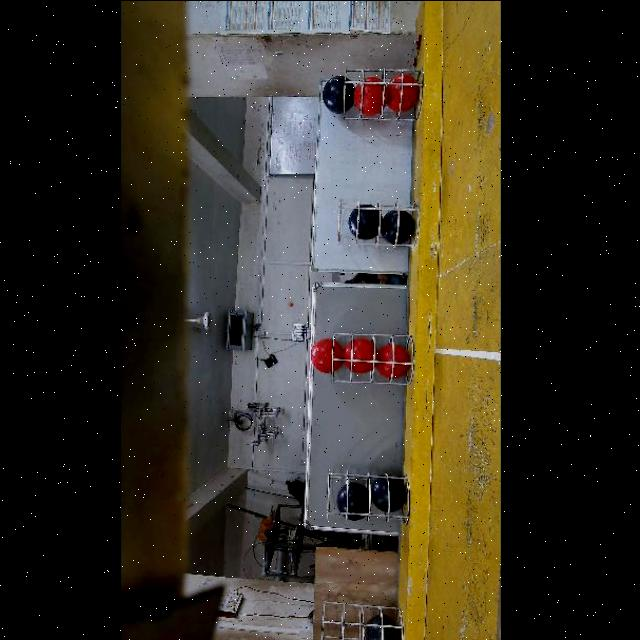P: (369, 478, 406, 514), (334, 482, 367, 520), (321, 74, 353, 112), (379, 209, 413, 243), (346, 204, 378, 239), (363, 615, 400, 640)
R: (351, 76, 387, 116), (341, 337, 377, 374), (386, 73, 419, 111), (375, 343, 408, 378), (309, 338, 341, 373)
S: (322, 468, 410, 524), (338, 64, 420, 118), (326, 332, 408, 384), (334, 202, 410, 248), (318, 604, 400, 640)
